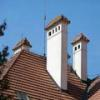chimneys: (73, 34, 90, 82)
